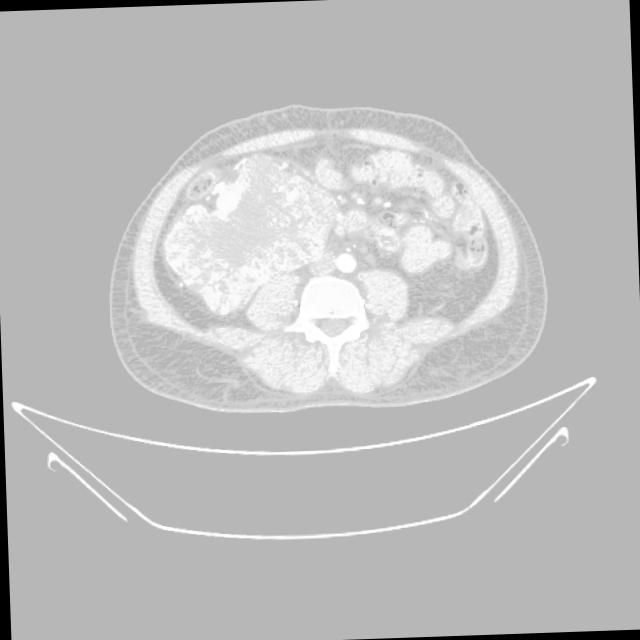TUMOR: (180, 146, 419, 251)
